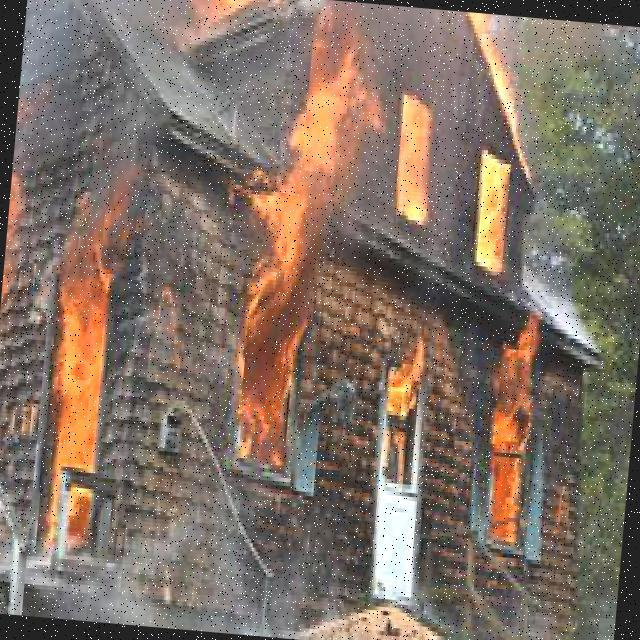Fire: (230, 20, 374, 446), (34, 227, 125, 504), (472, 323, 562, 560), (385, 98, 440, 231), (376, 312, 435, 420), (466, 153, 513, 284)
Smoke: (91, 490, 232, 629), (218, 550, 341, 640)
